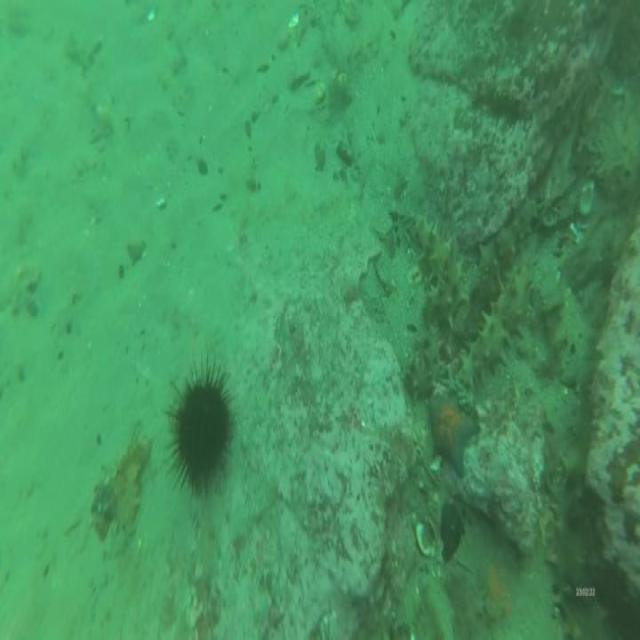echinus: (174, 385, 231, 490)
holothurian: (462, 266, 534, 378), (550, 449, 588, 637), (414, 218, 467, 324), (480, 195, 537, 262), (118, 436, 150, 531), (406, 328, 440, 399)
starfish: (428, 390, 476, 480)
